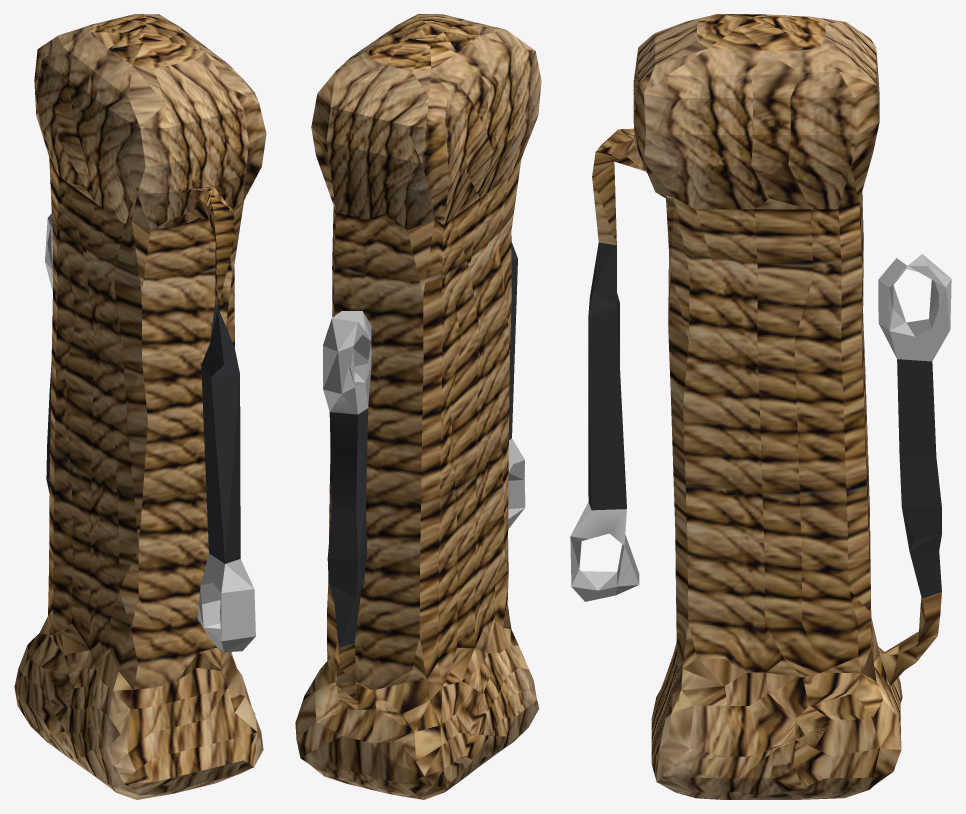
Rendered from RopeTan.fbx.
3 renders of one model, left to right at view 1: azimuth 30°, elevation 25°; view 2: azimuth 150°, elevation 25°; view 3: azimuth 270°, elevation 25°, orthographic. The views are drawn at different scales.
Parts seen in each view (by area): view 1: Rope; view 2: Rope; view 3: Rope.
Boxes of the visible parts, box(x1,y1,x2,y2) form: Rope: box(14, 14, 266, 799); Rope: box(295, 14, 541, 799); Rope: box(570, 14, 951, 799).
Size of the model in its own units: 0.1478 by 0.6976 by 0.3215.
